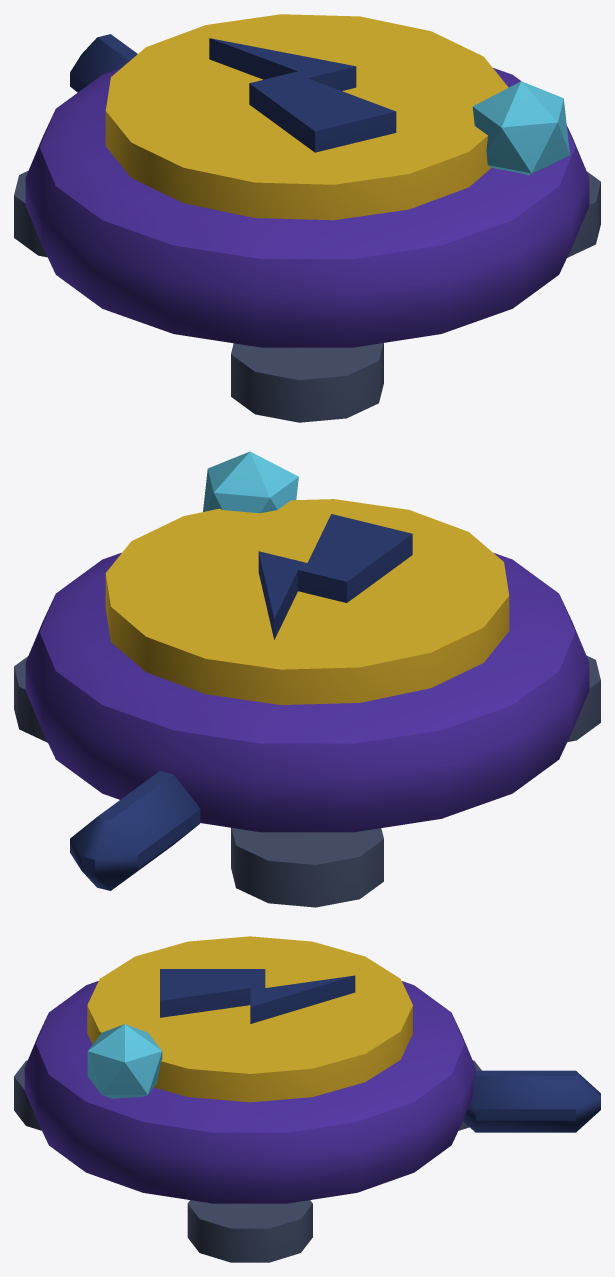
Rendered from w_a_mine.glb.
3 renders of one model, top to bottom at view 1: azimuth 30°, elevation 25°; view 2: azimuth 150°, elevation 25°; view 3: azimuth 270°, elevation 25°, orthographic. The views are drawn at different scales.
Parts seen in each view (by area): view 1: body; view 2: body; view 3: body.
Part boxes in pixels (x1,y1,x2,y2): body: (14,14,600,422); body: (14,451,600,907); body: (14,936,600,1262).
Size of the model in its own units: 0.1732 by 0.072 by 0.2109.
